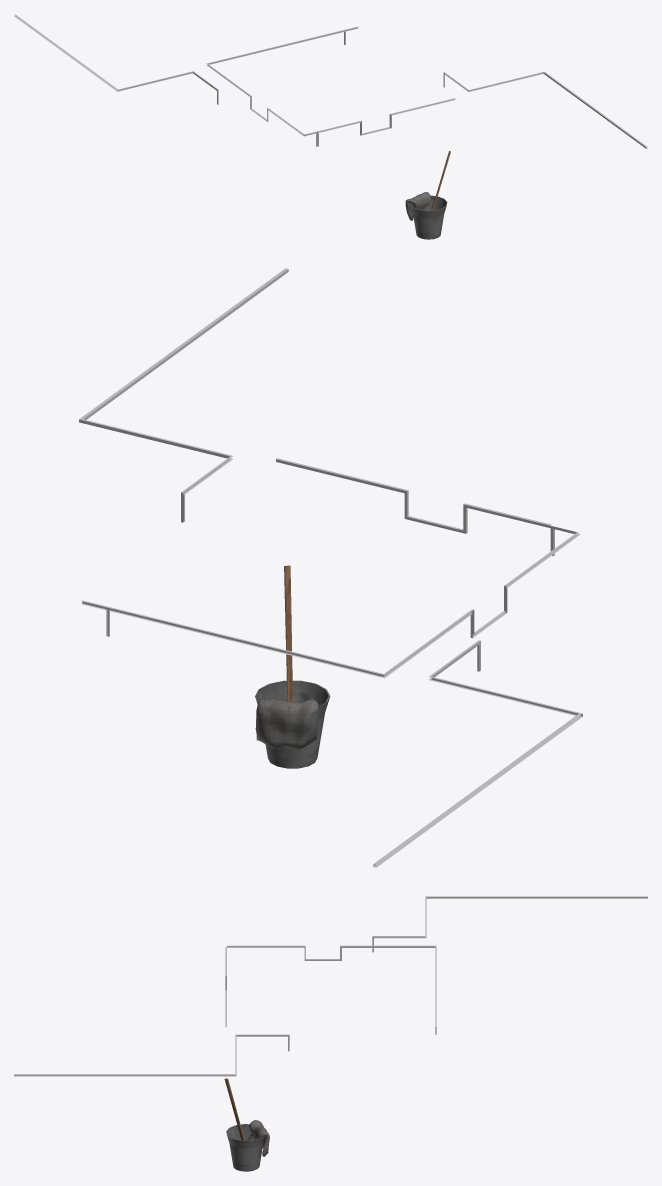
3 views of the same model, one above another, from view 1: azimuth 30°, elevation 25°; view 2: azimuth 150°, elevation 25°; view 3: azimuth 270°, elevation 25° (orthographic). The views are drawn at different scales.
Visible parts, largest first — view 1: Cube.058, Cube.074, Cylinder.025, Cube.076; view 2: Cube.058, Cube.074, Cube.076, Cylinder.025, Cube.075; view 3: Cube.058, Cylinder.025, Cube.074, Cube.076.
Boxes of the visible parts, box(x1,y1,x2,y2) form: Cube.058: box(14, 14, 647, 148); Cube.074: box(206, 26, 455, 146); Cylinder.025: box(410, 195, 447, 239); Cube.076: box(405, 192, 430, 220); Cube.058: box(79, 268, 582, 867); Cube.074: box(81, 458, 580, 678); Cube.076: box(255, 699, 318, 749); Cylinder.025: box(255, 680, 330, 768); Cube.075: box(284, 565, 292, 702); Cube.058: box(14, 896, 647, 1076); Cylinder.025: box(226, 1124, 264, 1171); Cube.074: box(225, 945, 436, 1034); Cube.076: box(247, 1120, 269, 1156).
Bounding box in the file's own units: 800 × 313 × 1200.
